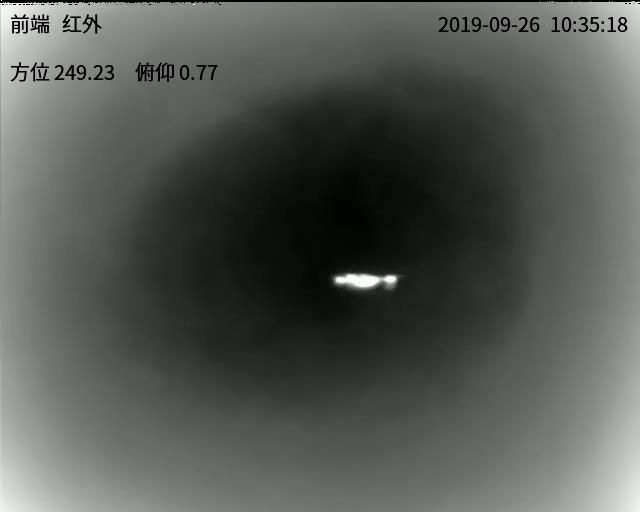uav: (328, 271, 392, 295)
